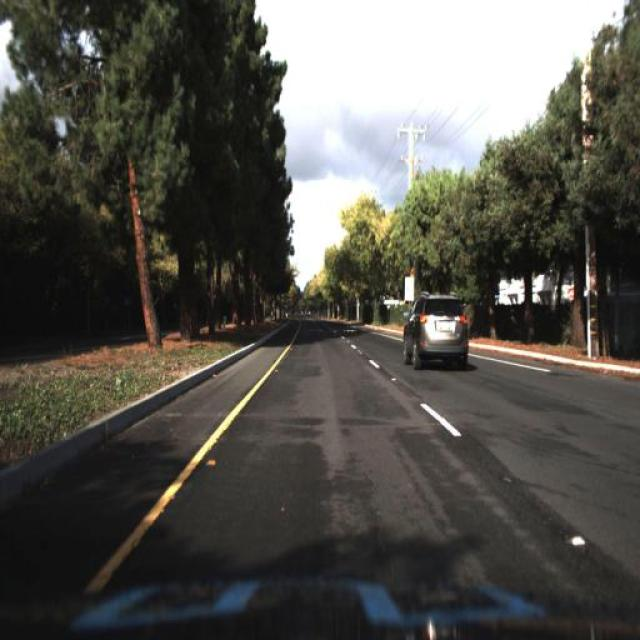car: (402, 290, 472, 370)
